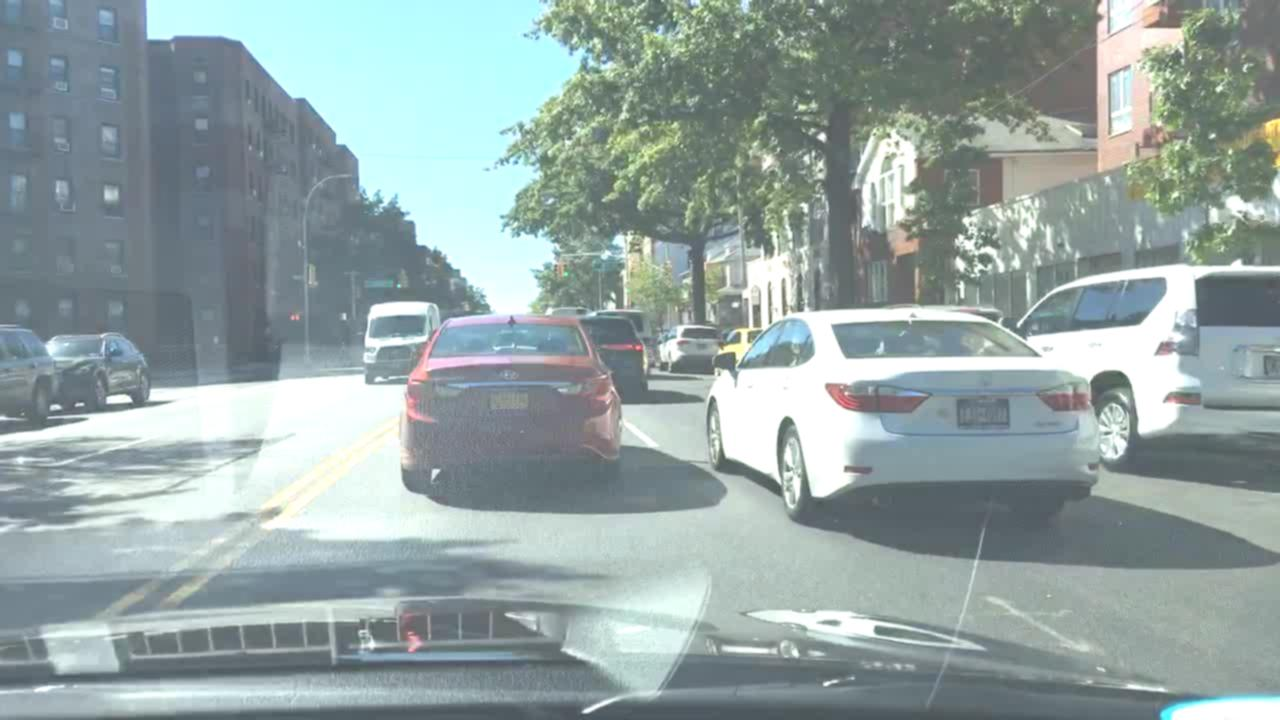Hyundai: (495, 366, 525, 386)
